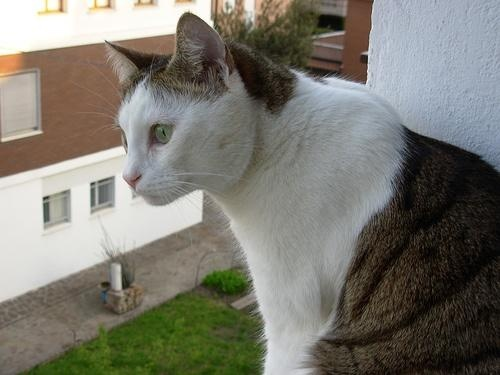cat: (105, 12, 500, 375)
